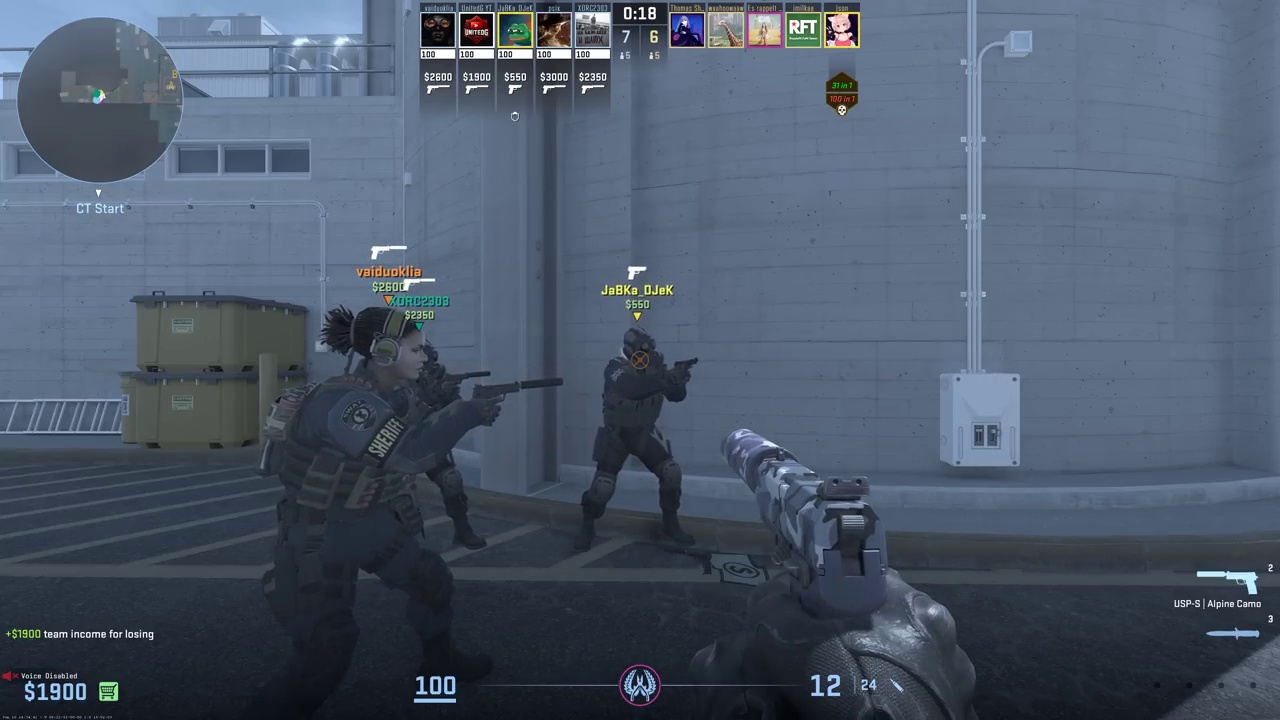CT: (258, 307, 487, 717), (581, 329, 682, 548)
